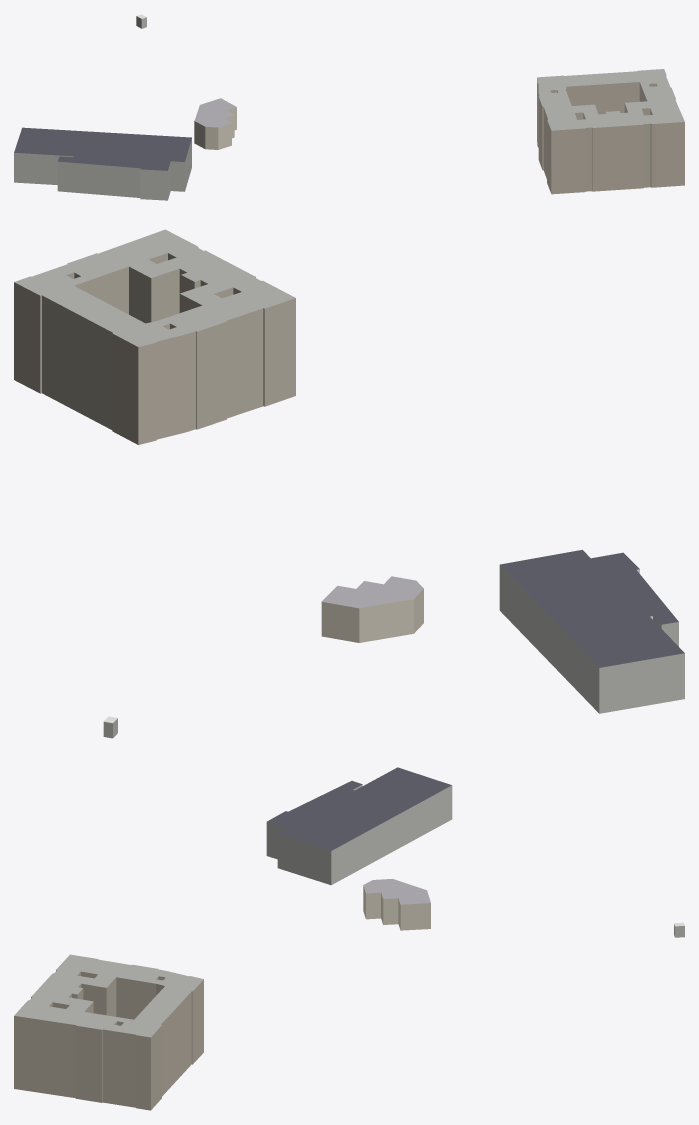
The picture shows the model from 3 angles, top to bottom: view 1: azimuth 30°, elevation 25°; view 2: azimuth 150°, elevation 25°; view 3: azimuth 270°, elevation 25°; orthographic projection. The views are drawn at different scales.
Visible parts, largest first — view 1: tuile; view 2: tuile; view 3: tuile.
Part boxes in pixels (left/top/right/bottom): tuile: left=14, top=14, right=684, bottom=200; tuile: left=14, top=229, right=684, bottom=738; tuile: left=14, top=767, right=684, bottom=1110.
Bounding box in the file's own units: 279 × 31.23 × 260.
